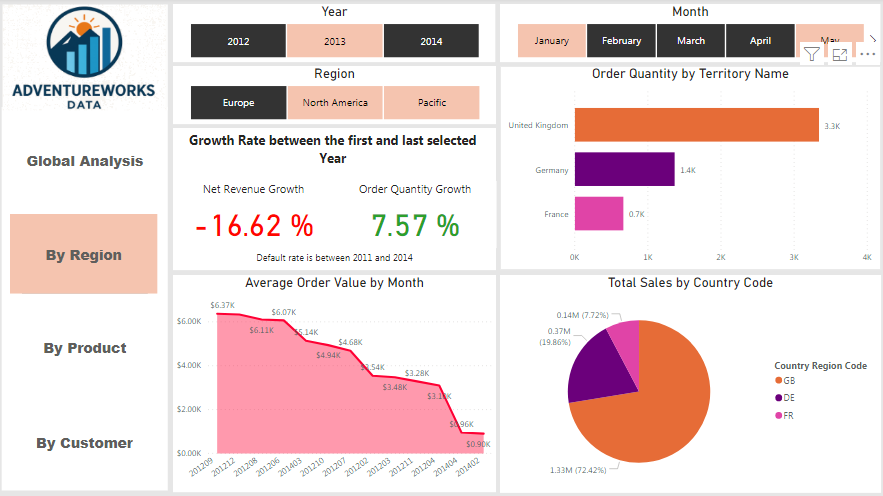

What the dashboard file says about the page in this screenshot:
{"tool":"powerbi","page":{"name":"Region","canvas":[1280,720],"ordinal":1},"visuals":[{"type":"slicer","title":"Month","fields":{"Values":["Dim Date.Month Name"]},"box":[724.7,8.4,550.2,83.9],"z":0},{"type":"basicShape","box":[2,152,245,566],"z":0,"group":"g1"},{"type":"slicer","title":"Year","fields":{"Values":["Dim Date.Calendar.Year"]},"box":[252,9,466.4,84],"z":1000},{"type":"actionButton","box":[34.4,176.7,181.8,115.4],"z":1000,"group":"g1"},{"type":"barChart","fields":{"Y":["Fact Sales (Measures).Order Quantity"],"Category":["Dim Territory.Territory Name"]},"box":[724.3,98.3,550.8,294.9],"z":2000},{"type":"actionButton","box":[34.4,311.9,181.8,115],"z":2000,"group":"g1"},{"type":"pieChart","title":"Total Sales by Country Code","fields":{"Category":["Dim Territory.Country Region Code"],"Y":["Fact Sales (Measures).Sales Amount"]},"box":[724,400,550.8,315],"z":3000},{"type":"actionButton","box":[34.4,448.7,181.8,115],"z":3000,"group":"g1"},{"type":"group","id":"g1","title":"Side_Menu","box":[2,152,245,566],"z":4000},{"type":"actionButton","box":[34.4,583.8,181.8,115.4],"z":4000,"group":"g1"},{"type":"image","box":[0,4,249,163],"z":5000},{"type":"card","title":"Net Revenue Growth","fields":{"Values":["Fact Sales (Measures).SalesGrowthRate"]},"box":[251.6,264.6,232.8,96.9],"z":6000},{"type":"actionButton","box":[17,311.9,213,115.4],"z":6000,"group":"g1"},{"type":"textbox","box":[251.6,188,467,78],"z":7000},{"type":"card","title":"Order Quantity Growth","fields":{"Values":["Fact Sales (Measures).OrderGrowthRate"]},"box":[483.8,264.7,234.8,96.8],"z":8000},{"type":"textbox","box":[251.6,361,467,31.8],"z":9000},{"type":"areaChart","title":"Average Order Value by Month","fields":{"Category":["Dim Date.Year Month"],"Y":["Fact Sales (Measures).Average Order Value"]},"box":[251.6,399.3,466.4,315.4],"z":10000},{"type":"slicer","title":"Region","fields":{"Values":["Dim Territory.Territory Group"]},"box":[251.6,98.3,467,83.9],"z":11000}]}

Visuals, with their boxes in screenshot pixels (x1, y1, x2, y2), scaled from the page's 1280x720 canvas onto the 883x496 screenshot:
"Month" slicer: {"x1": 500, "y1": 6, "x2": 879, "y2": 64}
basicShape: {"x1": 1, "y1": 105, "x2": 170, "y2": 495}
"Year" slicer: {"x1": 174, "y1": 6, "x2": 496, "y2": 64}
actionButton: {"x1": 24, "y1": 122, "x2": 149, "y2": 201}
barChart - Fact Sales (Measures).Order Quantity x Dim Territory.Territory Name: {"x1": 500, "y1": 68, "x2": 880, "y2": 271}
actionButton: {"x1": 24, "y1": 215, "x2": 149, "y2": 294}
"Total Sales by Country Code" pieChart: {"x1": 499, "y1": 276, "x2": 879, "y2": 493}
actionButton: {"x1": 24, "y1": 309, "x2": 149, "y2": 388}
"Side_Menu" group: {"x1": 1, "y1": 105, "x2": 170, "y2": 495}
actionButton: {"x1": 24, "y1": 402, "x2": 149, "y2": 482}
image: {"x1": 0, "y1": 3, "x2": 172, "y2": 115}
"Net Revenue Growth" card: {"x1": 174, "y1": 182, "x2": 334, "y2": 249}
actionButton: {"x1": 12, "y1": 215, "x2": 159, "y2": 294}
textbox: {"x1": 174, "y1": 130, "x2": 496, "y2": 183}
"Order Quantity Growth" card: {"x1": 334, "y1": 182, "x2": 496, "y2": 249}
textbox: {"x1": 174, "y1": 249, "x2": 496, "y2": 271}
"Average Order Value by Month" areaChart: {"x1": 174, "y1": 275, "x2": 495, "y2": 492}
"Region" slicer: {"x1": 174, "y1": 68, "x2": 496, "y2": 126}
